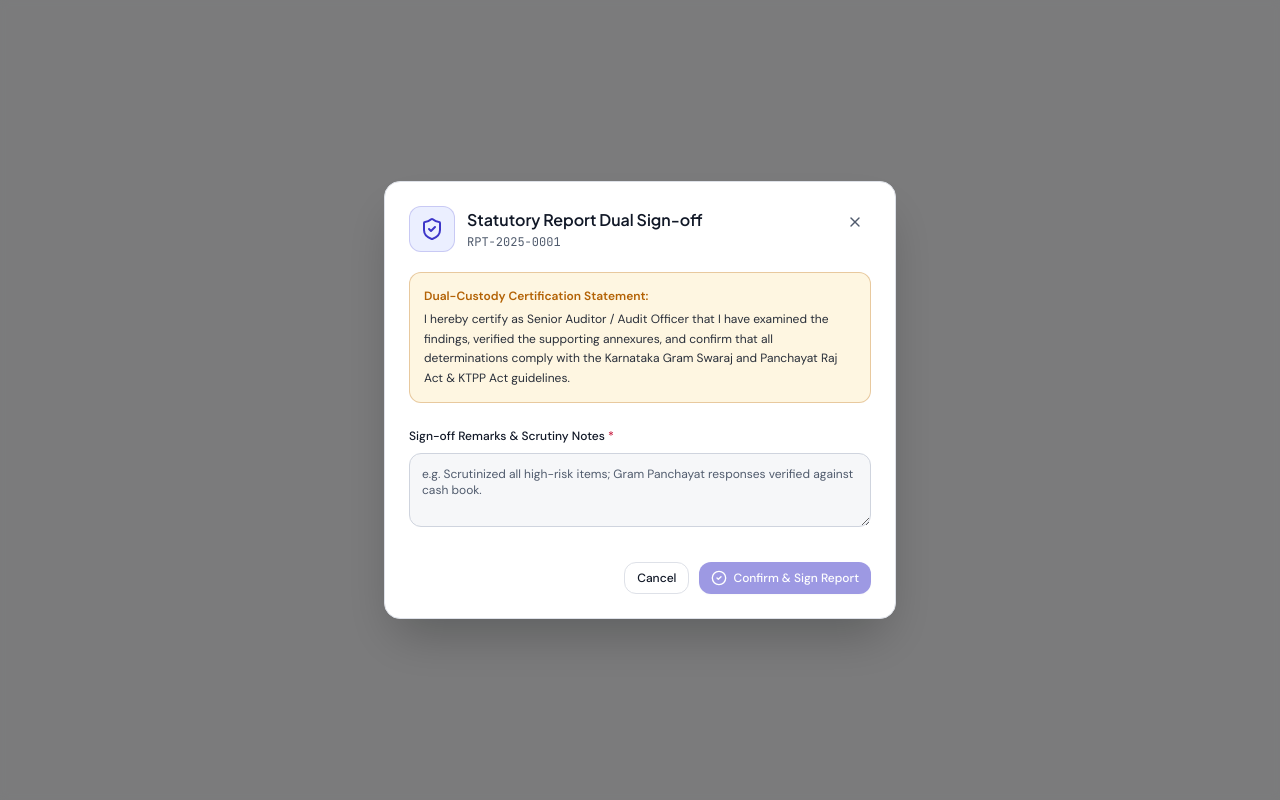
Test: Phase 6 Statutory Reports Vitest Suite › renders ReportApproveModal with dual-custody statement and comment requirement
This screenshot has width=1280, height=800.
Expected: the heading "Statutory Report Dual Sign-off" is shown, x1=467 y1=208 x2=703 y2=232
Expected: the text "Dual-Custody Certification Statement:" is shown, x1=424 y1=288 x2=648 y2=304
Replace the text in the text box with placeholder "Scrutinized all high-risk items" with "Full audit compliance verified." at (640, 490), box x1=409 y1=453 x2=871 y2=527
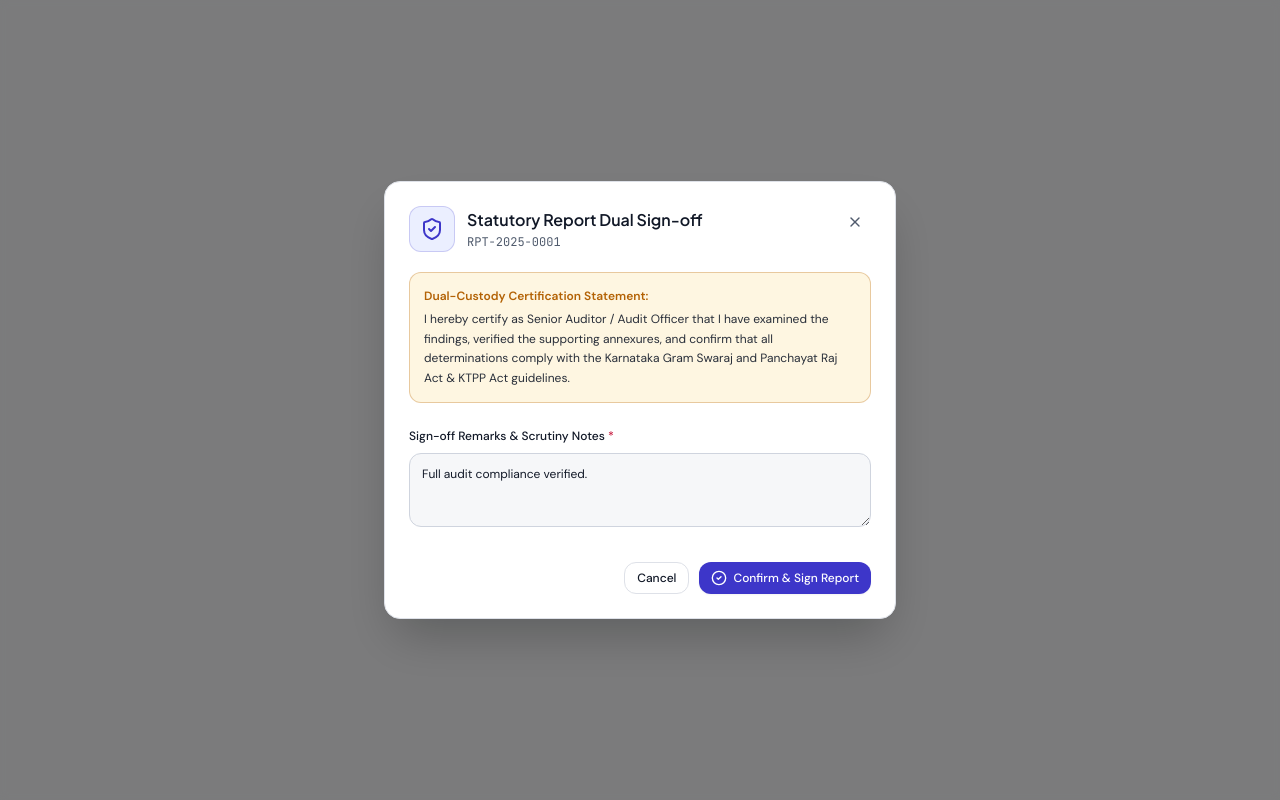
Now the button "Confirm & Sign Report" is enabled, box x1=699 y1=562 x2=871 y2=594
